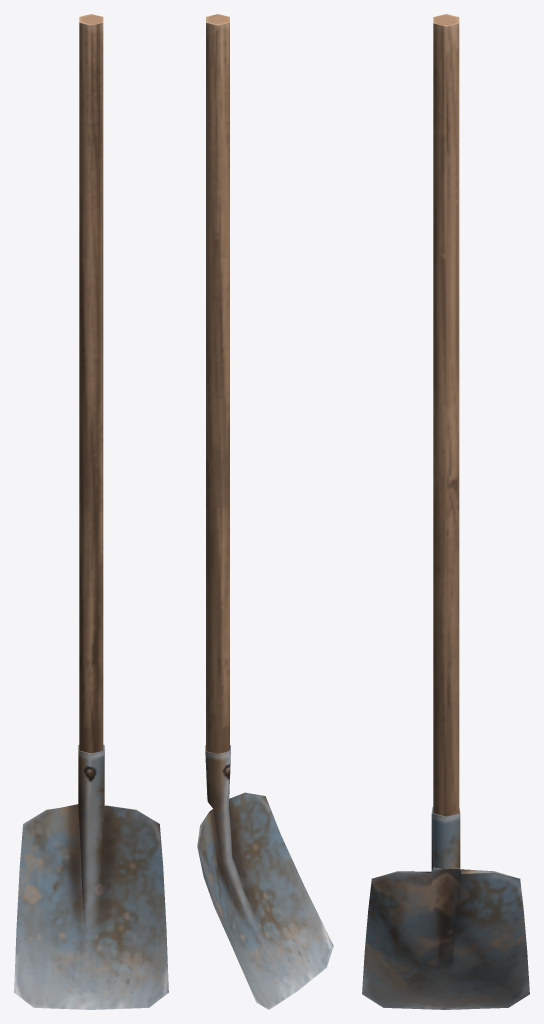
File: ITEM_shovel01.fbx
The picture shows the model from 3 angles, left to right: view 1: azimuth 90°, elevation 25°; view 2: azimuth 150°, elevation 25°; view 3: azimuth 270°, elevation 25°; orthographic projection. The views are drawn at different scales.
Parts seen in each view (by area): view 1: ITEM_shovel01; view 2: ITEM_shovel01; view 3: ITEM_shovel01.
Part boxes in pixels (<box>): ITEM_shovel01: <box>14,14,168,1009</box>; ITEM_shovel01: <box>197,14,333,1009</box>; ITEM_shovel01: <box>362,14,529,1009</box>.
Size of the model in its own units: 15.25 by 149 by 22.02.
